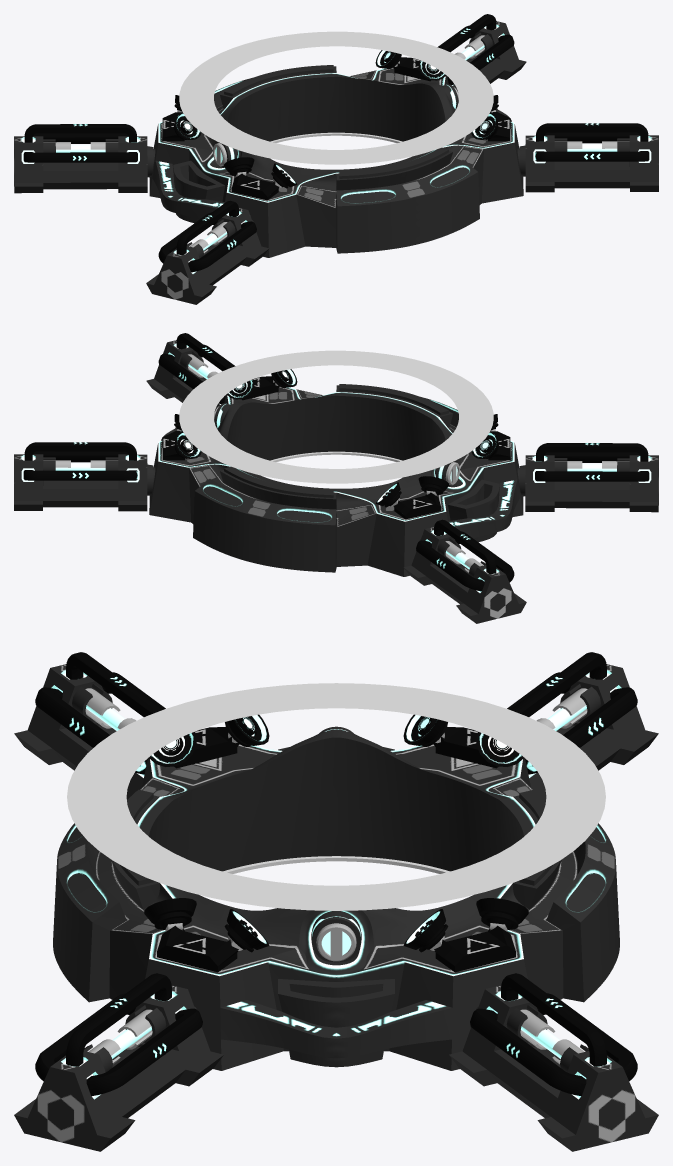
Rendered from Mesh_Arena2.fbx.
The picture shows the model from 3 angles, top to bottom: view 1: azimuth 30°, elevation 25°; view 2: azimuth 150°, elevation 25°; view 3: azimuth 270°, elevation 25°; orthographic projection. The views are drawn at different scales.
Parts seen in each view (by area): view 1: arena.003, feet, sign, generators, bolts, colour_ring; view 2: arena.003, feet, sign, generators, bolts, colour_ring; view 3: arena.003, feet, sign, generators, bolts, colour_ring.
Part boxes in pixels (<box>): arena.003: <box>149,65,523,257</box>; feet: <box>14,14,658,304</box>; sign: <box>179,31,493,164</box>; generators: <box>162,50,510,200</box>; bolts: <box>213,84,458,167</box>; colour_ring: <box>270,132,402,142</box>; arena.003: <box>149,384,523,576</box>; feet: <box>14,333,658,623</box>; sign: <box>179,350,493,483</box>; generators: <box>162,369,510,519</box>; bolts: <box>214,403,459,486</box>; colour_ring: <box>270,451,402,461</box>; arena.003: <box>53,730,619,1070</box>; feet: <box>14,652,658,1151</box>; sign: <box>67,683,605,910</box>; generators: <box>144,714,528,972</box>; bolts: <box>312,726,360,962</box>; colour_ring: <box>223,856,449,873</box>.
Bounding box in the file's own units: 2364 × 375 × 1504.
6 materials, 4 textured.
